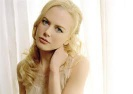female: (33, 5, 75, 59)
